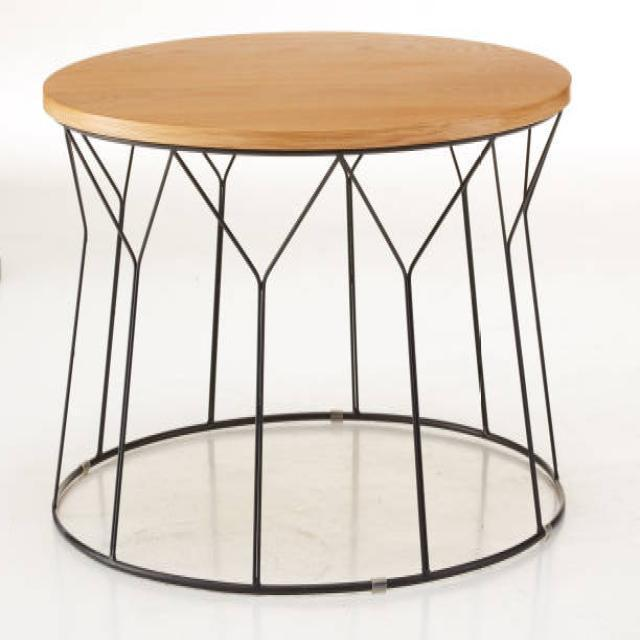table: (42, 28, 572, 596)
